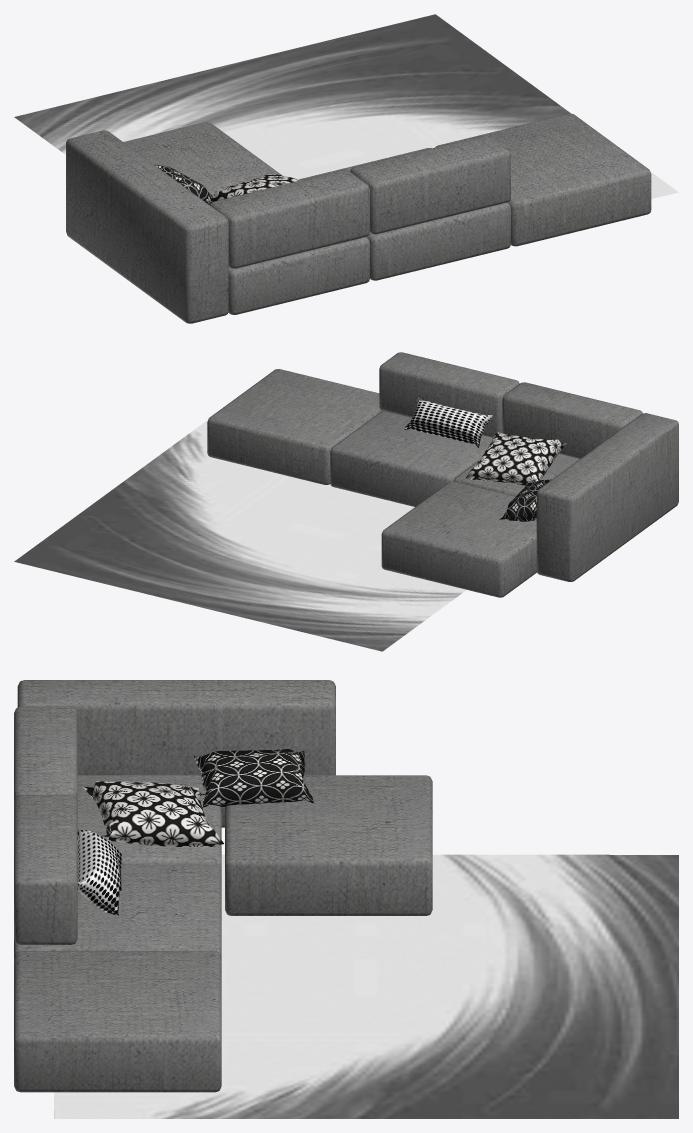
The model's file is FUR0210033.fbx.
3 views of the same model, one above another, from view 1: azimuth 30°, elevation 25°; view 2: azimuth 150°, elevation 25°; view 3: azimuth 270°, elevation 25° (orthographic). The views are drawn at different scales.
Parts seen in each view (by area): view 1: smFUR0210033; view 2: smFUR0210033; view 3: smFUR0210033.
Boxes of the visible parts, x1,y1,x2,y2 form: smFUR0210033: (14,14,678,323); smFUR0210033: (14,352,678,651); smFUR0210033: (14,680,678,1118).
Bounding box in the file's own units: 515 × 96.22 × 457.
Materials: 1 (1 with a texture image).
